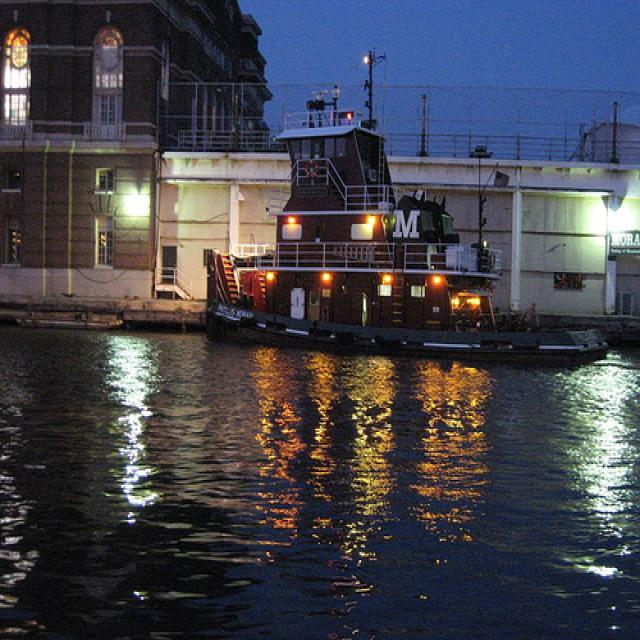Boat: (190, 116, 601, 382)
